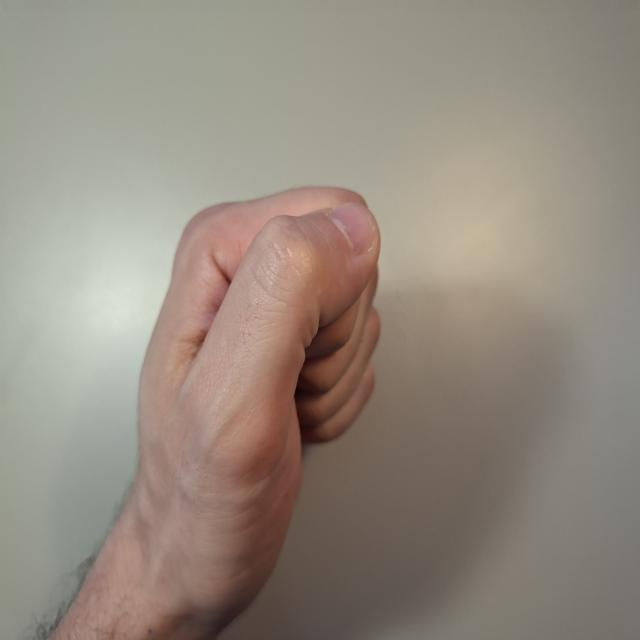glove_off: (134, 182, 384, 634)
